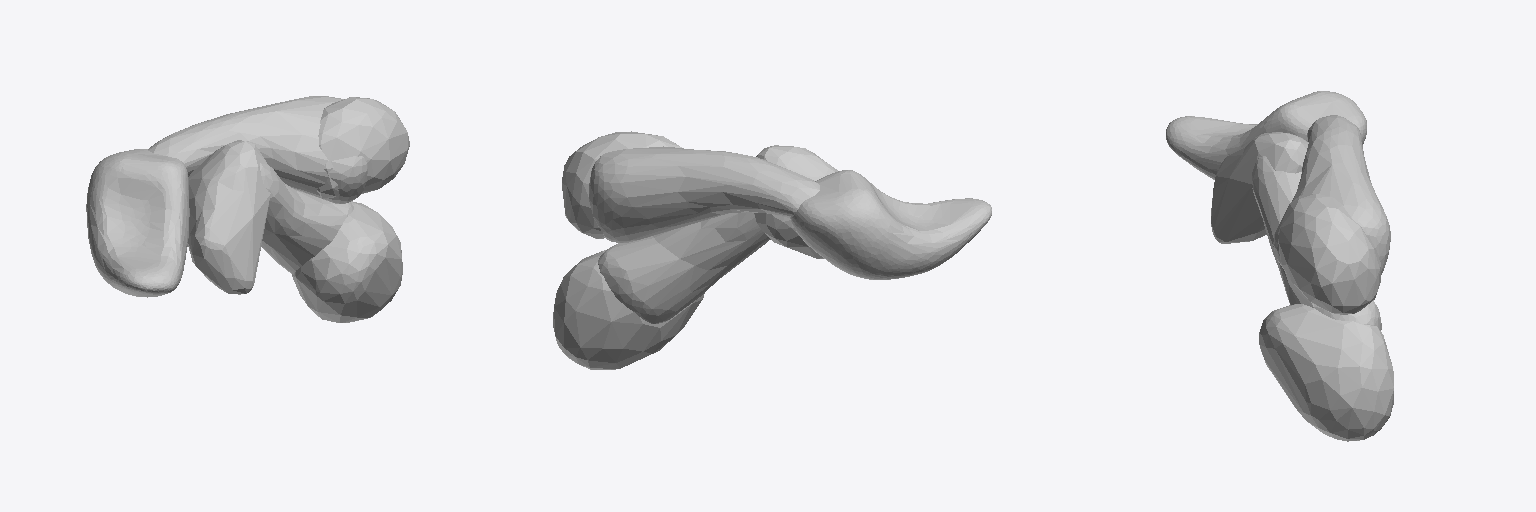
File: Superior_colliculus.obj
3 views of the same model, side by side, from view 1: azimuth 30°, elevation 25°; view 2: azimuth 150°, elevation 25°; view 3: azimuth 270°, elevation 25° (orthographic).
Visible parts, largest first — view 1: obj0; view 2: obj0; view 3: obj0.
Boxes of the visible parts, x1,y1,x2,y2 form: obj0: [86, 96, 409, 322]; obj0: [553, 131, 991, 369]; obj0: [1166, 91, 1393, 441].
Bounding box in the file's own units: 11.35 × 7.21 × 6.36.